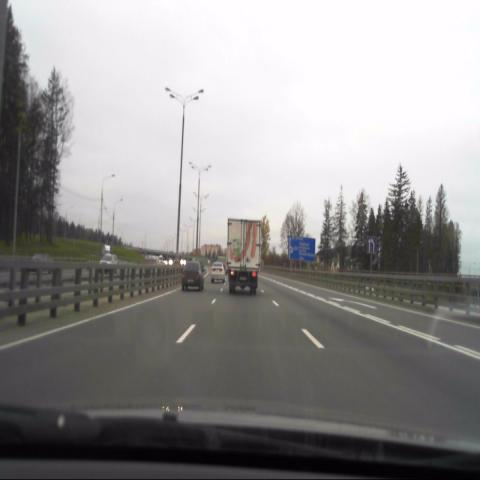5_15_5: (367, 237, 376, 253)
